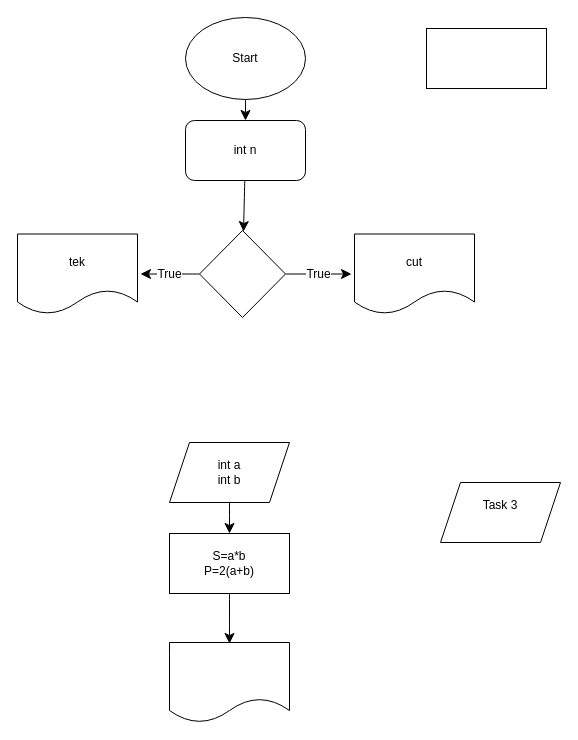
Some shapes in this 578 by 740 pixel diagram are drawn without their labels. Here are the shapes that lost their labels. From the top down, the box of each, then its label:
(426, 28, 546, 88): Task 2
(198, 230, 286, 318): n%2=0
(168, 642, 290, 722): S=S P=p
